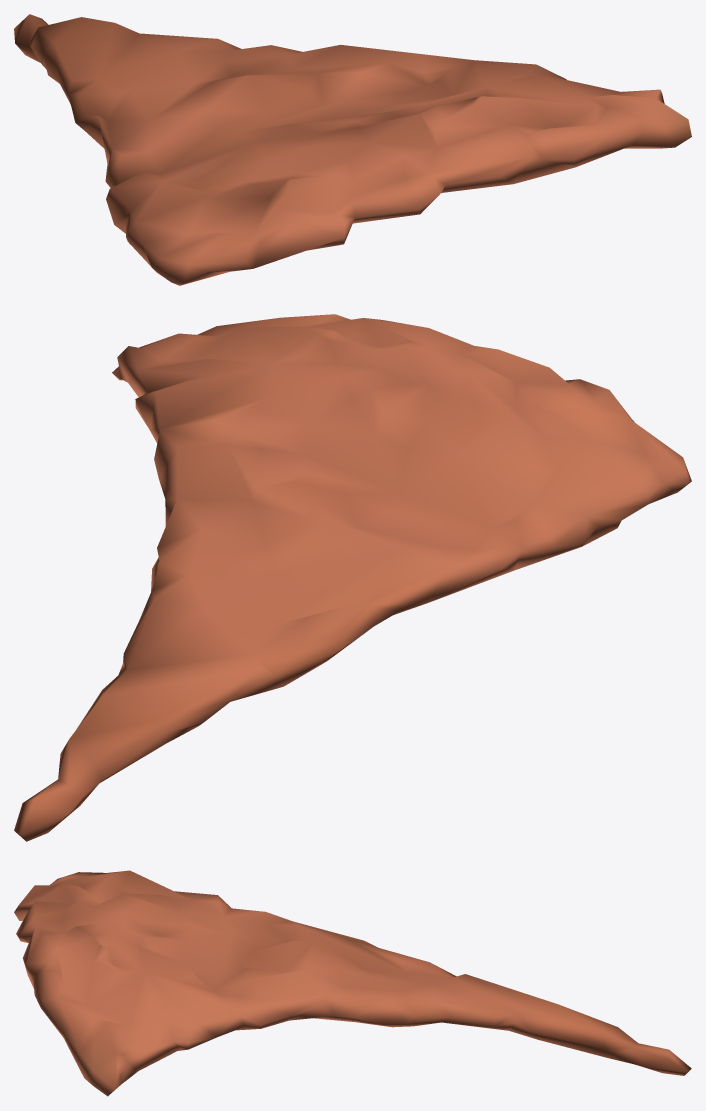
The picture shows the model from 3 angles, top to bottom: view 1: azimuth 30°, elevation 25°; view 2: azimuth 150°, elevation 25°; view 3: azimuth 270°, elevation 25°; orthographic projection. The views are drawn at different scales.
Parts seen in each view (by area): view 1: LOD 3_16298169511486423444_820756dedd5b3434c8e6bed8ae6a193b; view 2: LOD 3_16298169511486423444_820756dedd5b3434c8e6bed8ae6a193b; view 3: LOD 3_16298169511486423444_820756dedd5b3434c8e6bed8ae6a193b.
Part boxes in pixels (box(x1,y1,x2,y2)): LOD 3_16298169511486423444_820756dedd5b3434c8e6bed8ae6a193b: box(14, 14, 691, 285); LOD 3_16298169511486423444_820756dedd5b3434c8e6bed8ae6a193b: box(14, 314, 691, 841); LOD 3_16298169511486423444_820756dedd5b3434c8e6bed8ae6a193b: box(14, 870, 691, 1096).
Size of the model in its own units: 3.1 by 1.12 by 4.33.
